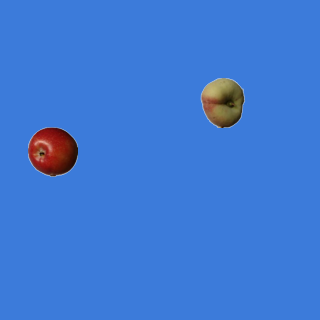Apple Braeburn: (27, 126, 77, 176)
Peach Flat: (197, 77, 247, 127)
